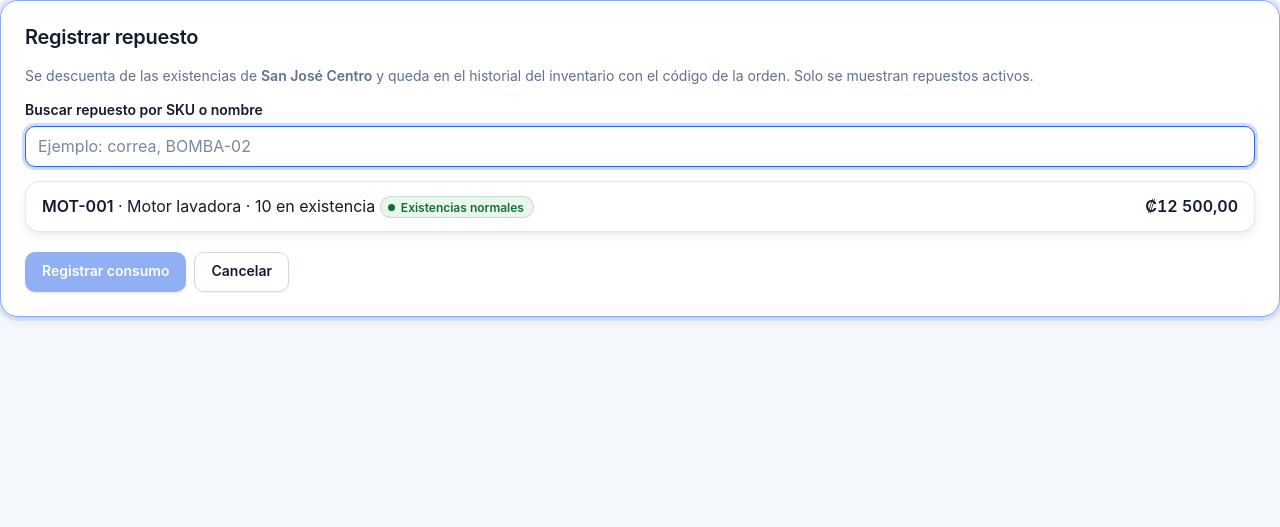
Test: ConsumePartForm pricing (BR-REP-014) › shows the catalog price and the line subtotal as the quantity changes
Step 1. Click the button "MOT-001" → (78,206), box [30,186,1250,227]
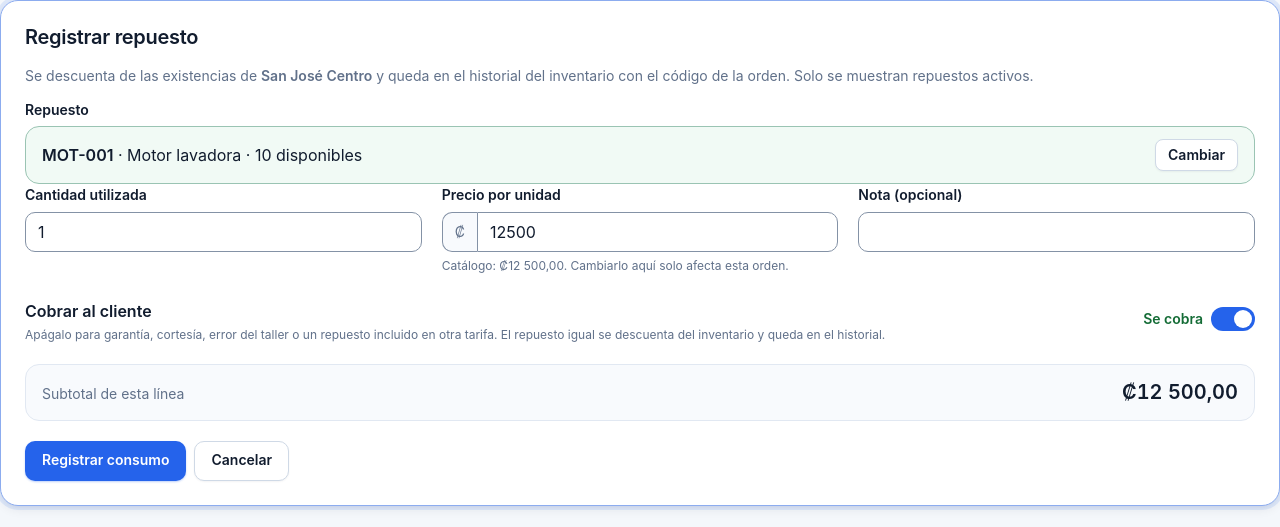
Step 2. Replace the text in the number field labelled "Cantidad utilizada" with "2" → (223,232), box [25,212,422,252]
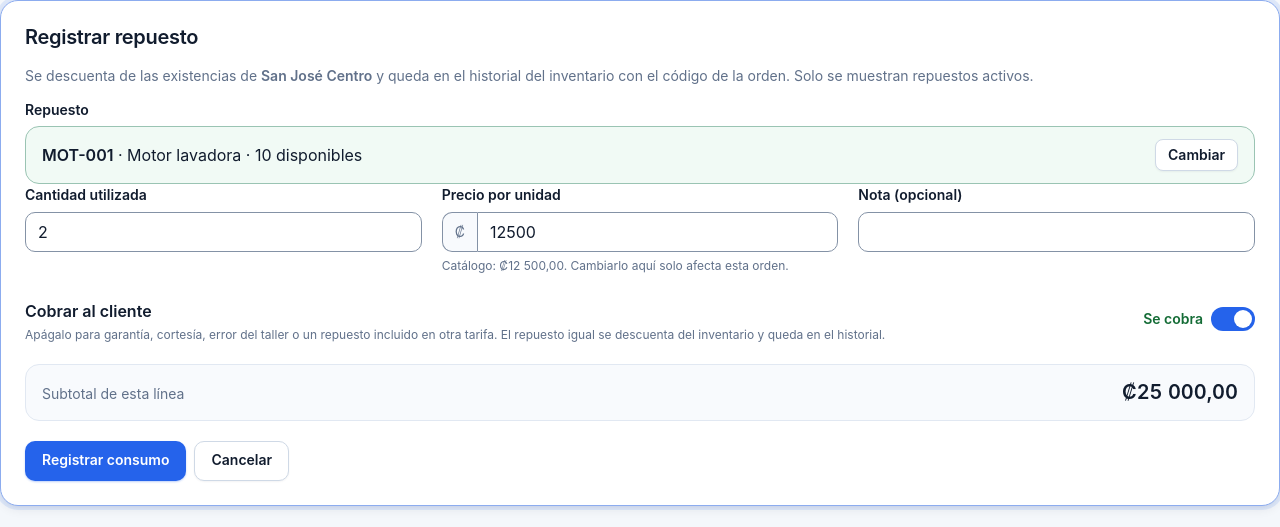
Expected: the field labelled "Precio por unidad" holds "12500", [477,212,838,252]
Expected: the text "₡25 000,00" is shown, [1122,377,1238,408]
